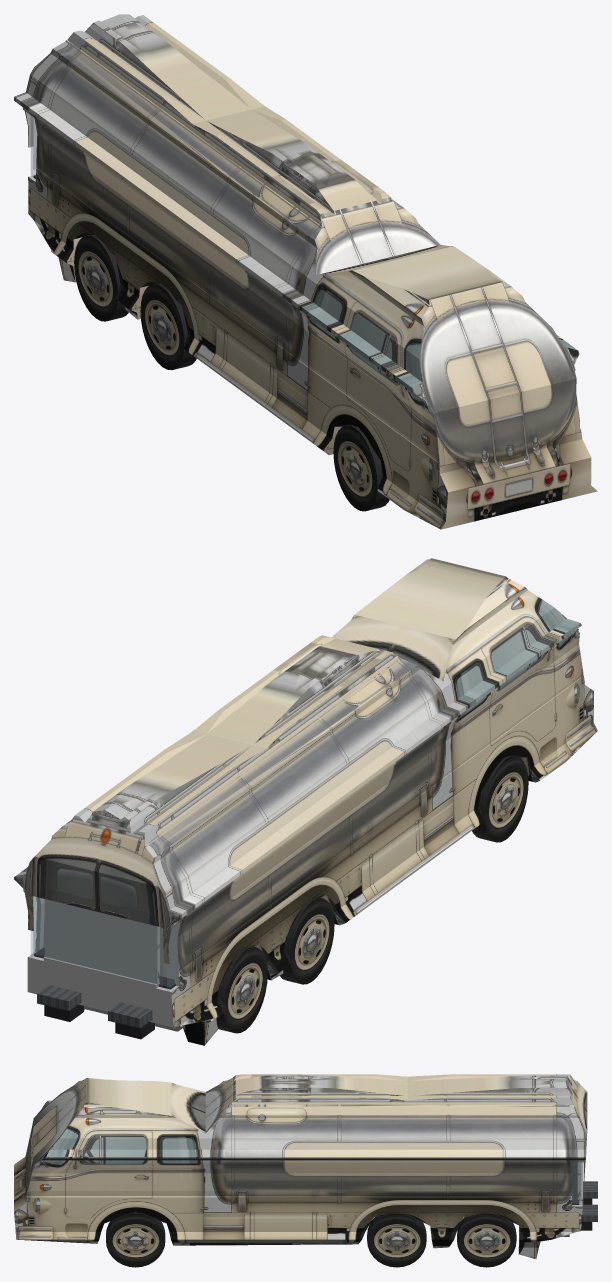
File: milk_tanker.glb
3 views of the same model, one above another, from view 1: azimuth 30°, elevation 25°; view 2: azimuth 150°, elevation 25°; view 3: azimuth 270°, elevation 25° (orthographic). The views are drawn at different scales.
Visible parts, largest first — view 1: milk_tanker, wheel_BL, wheel_M1L, wheel_FL; view 2: milk_tanker, milk_tanker_cabin, wheel_BL, wheel_M1L, wheel_FL; view 3: milk_tanker, wheel_M1R, wheel_FR, wheel_BR, milk_tanker_cabin.
Boxes of the visible parts, box(x1,y1,x2,y2) form: milk_tanker: box(14, 14, 597, 529); wheel_BL: box(333, 425, 389, 511); wheel_M1L: box(140, 283, 196, 370); wheel_FL: box(74, 234, 128, 321); milk_tanker: box(14, 558, 597, 1045); milk_tanker_cabin: box(31, 896, 183, 1039); wheel_BL: box(472, 755, 528, 842); wheel_M1L: box(280, 897, 334, 984); wheel_FL: box(218, 946, 267, 1033); milk_tanker: box(14, 1074, 587, 1258); wheel_M1R: box(367, 1212, 426, 1267); wheel_FR: box(457, 1212, 516, 1267); wheel_BR: box(106, 1212, 165, 1267); milk_tanker_cabin: box(561, 1162, 597, 1236).
Size of the model in its own units: 2.48 by 3.46 by 11.2.
11 materials, 4 textured.
